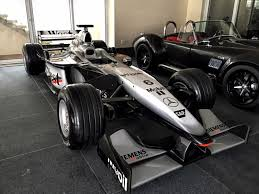f1_car: (22, 22, 253, 194)
